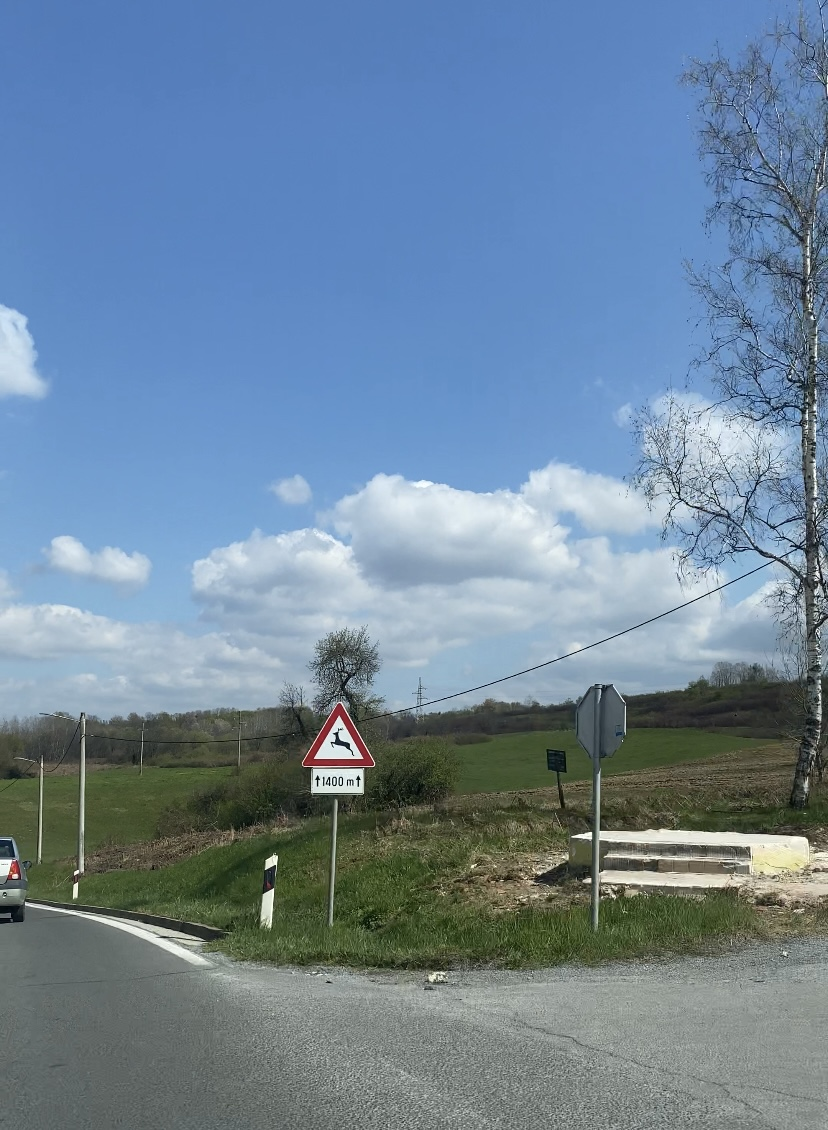Divljač na cesti: (302, 702, 376, 767)
